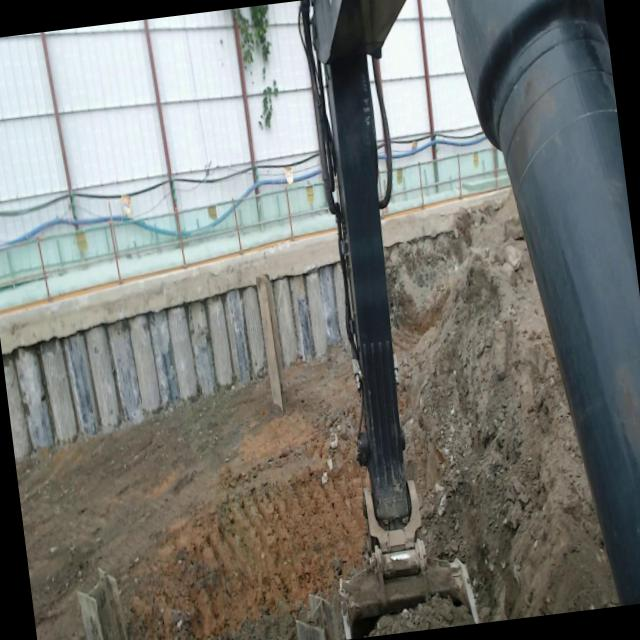white-sand: (15, 347, 368, 640), (385, 193, 618, 623), (366, 596, 472, 637)
